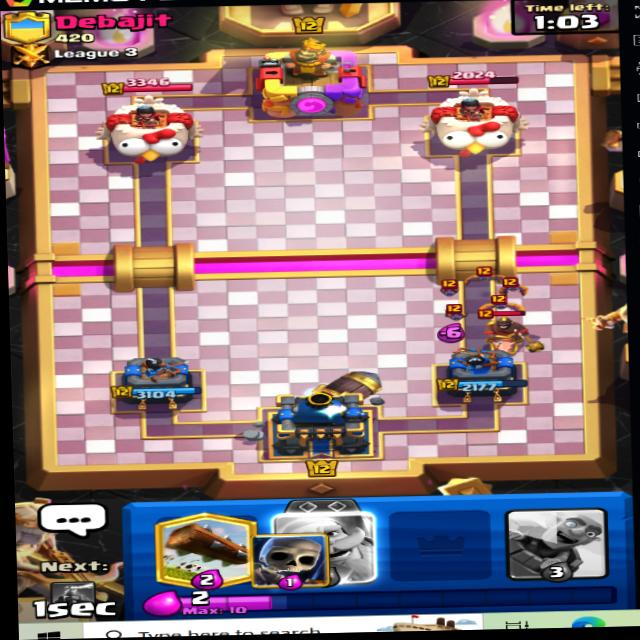bats: (457, 254, 498, 291), (423, 279, 465, 300), (480, 294, 523, 313), (500, 268, 529, 296), (433, 301, 469, 323)
hog-rider: (479, 310, 550, 361)
